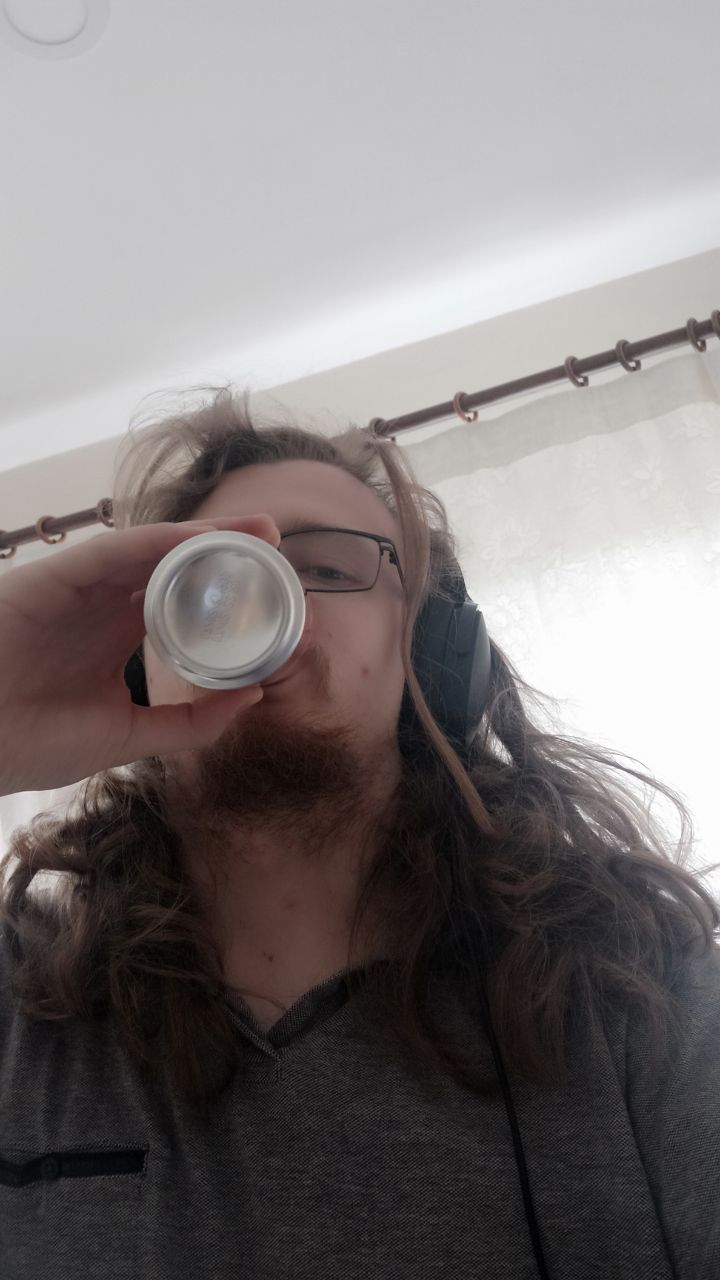Can: (140, 531, 311, 692)
